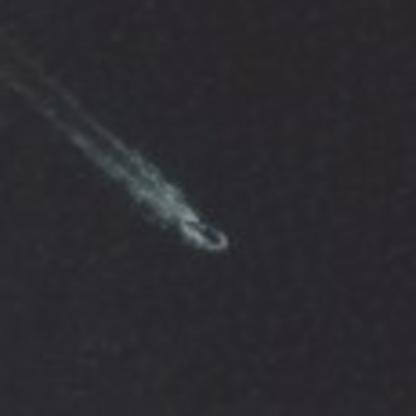ship: (177, 202, 234, 259)
